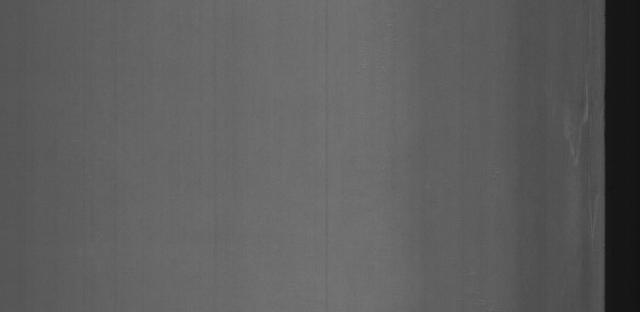silk_spot: (548, 70, 600, 201)
